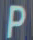Parking: (6, 2, 26, 39)
